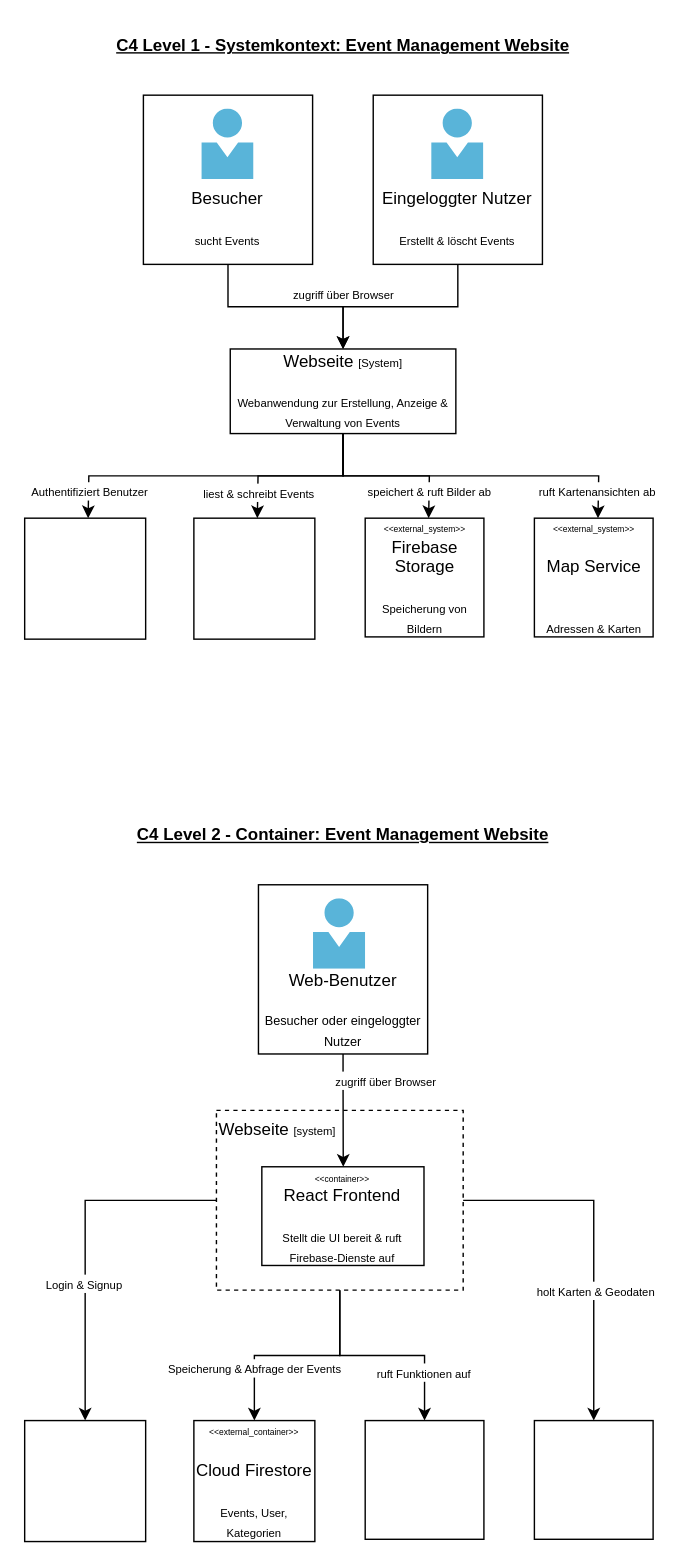
Some shapes in this 681 by 1567 pixel diagram are drawn without their labels. The centre of each missing label's shape, as x and y in pixels:
<< external_system >> Cloud Firestore Events, User, Kategorien: pixel 253 578
<<external_container>> Firebase Authentication User-Login & Registrierung: pixel 84 1480
<<external_container>> Firebase Storage Speicherung von Bildern: pixel 424 1479
<<external_container>> Map Service Adressen & Karten: pixel 593 1479
<<external_system>> Firebase Authentication User-Login & Registrierung: pixel 84 578
